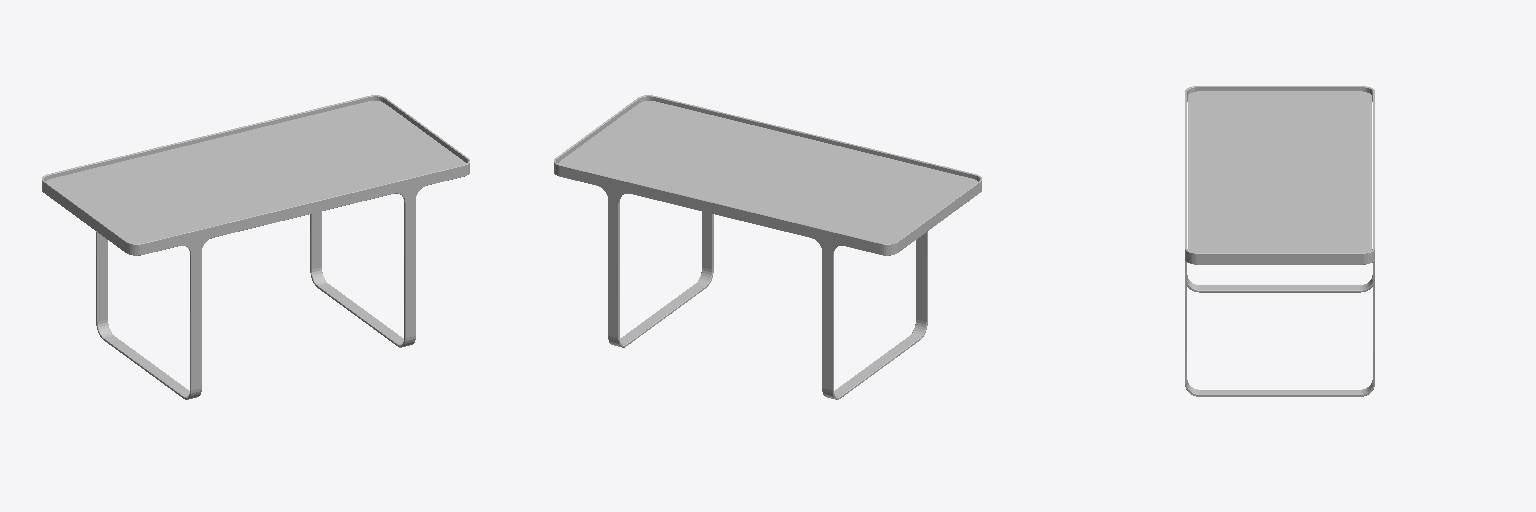
Rendered from table.obj.
The picture shows the model from 3 angles: view 1: azimuth 30°, elevation 25°; view 2: azimuth 150°, elevation 25°; view 3: azimuth 270°, elevation 25°; orthographic projection.
Visible parts, largest first — view 1: naughtone_trace_white; view 2: naughtone_trace_white; view 3: naughtone_trace_white.
Boxes of the visible parts, x1,y1,x2,y2 form: naughtone_trace_white: [42, 95, 469, 399]; naughtone_trace_white: [554, 95, 981, 399]; naughtone_trace_white: [1185, 86, 1374, 396].
Bounding box in the file's own units: 10.15 × 4.88 × 4.88.